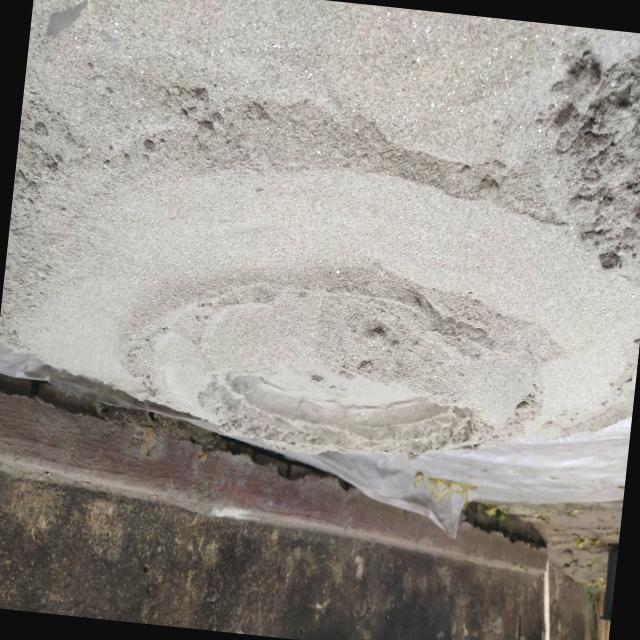C40: (219, 366, 450, 451)
